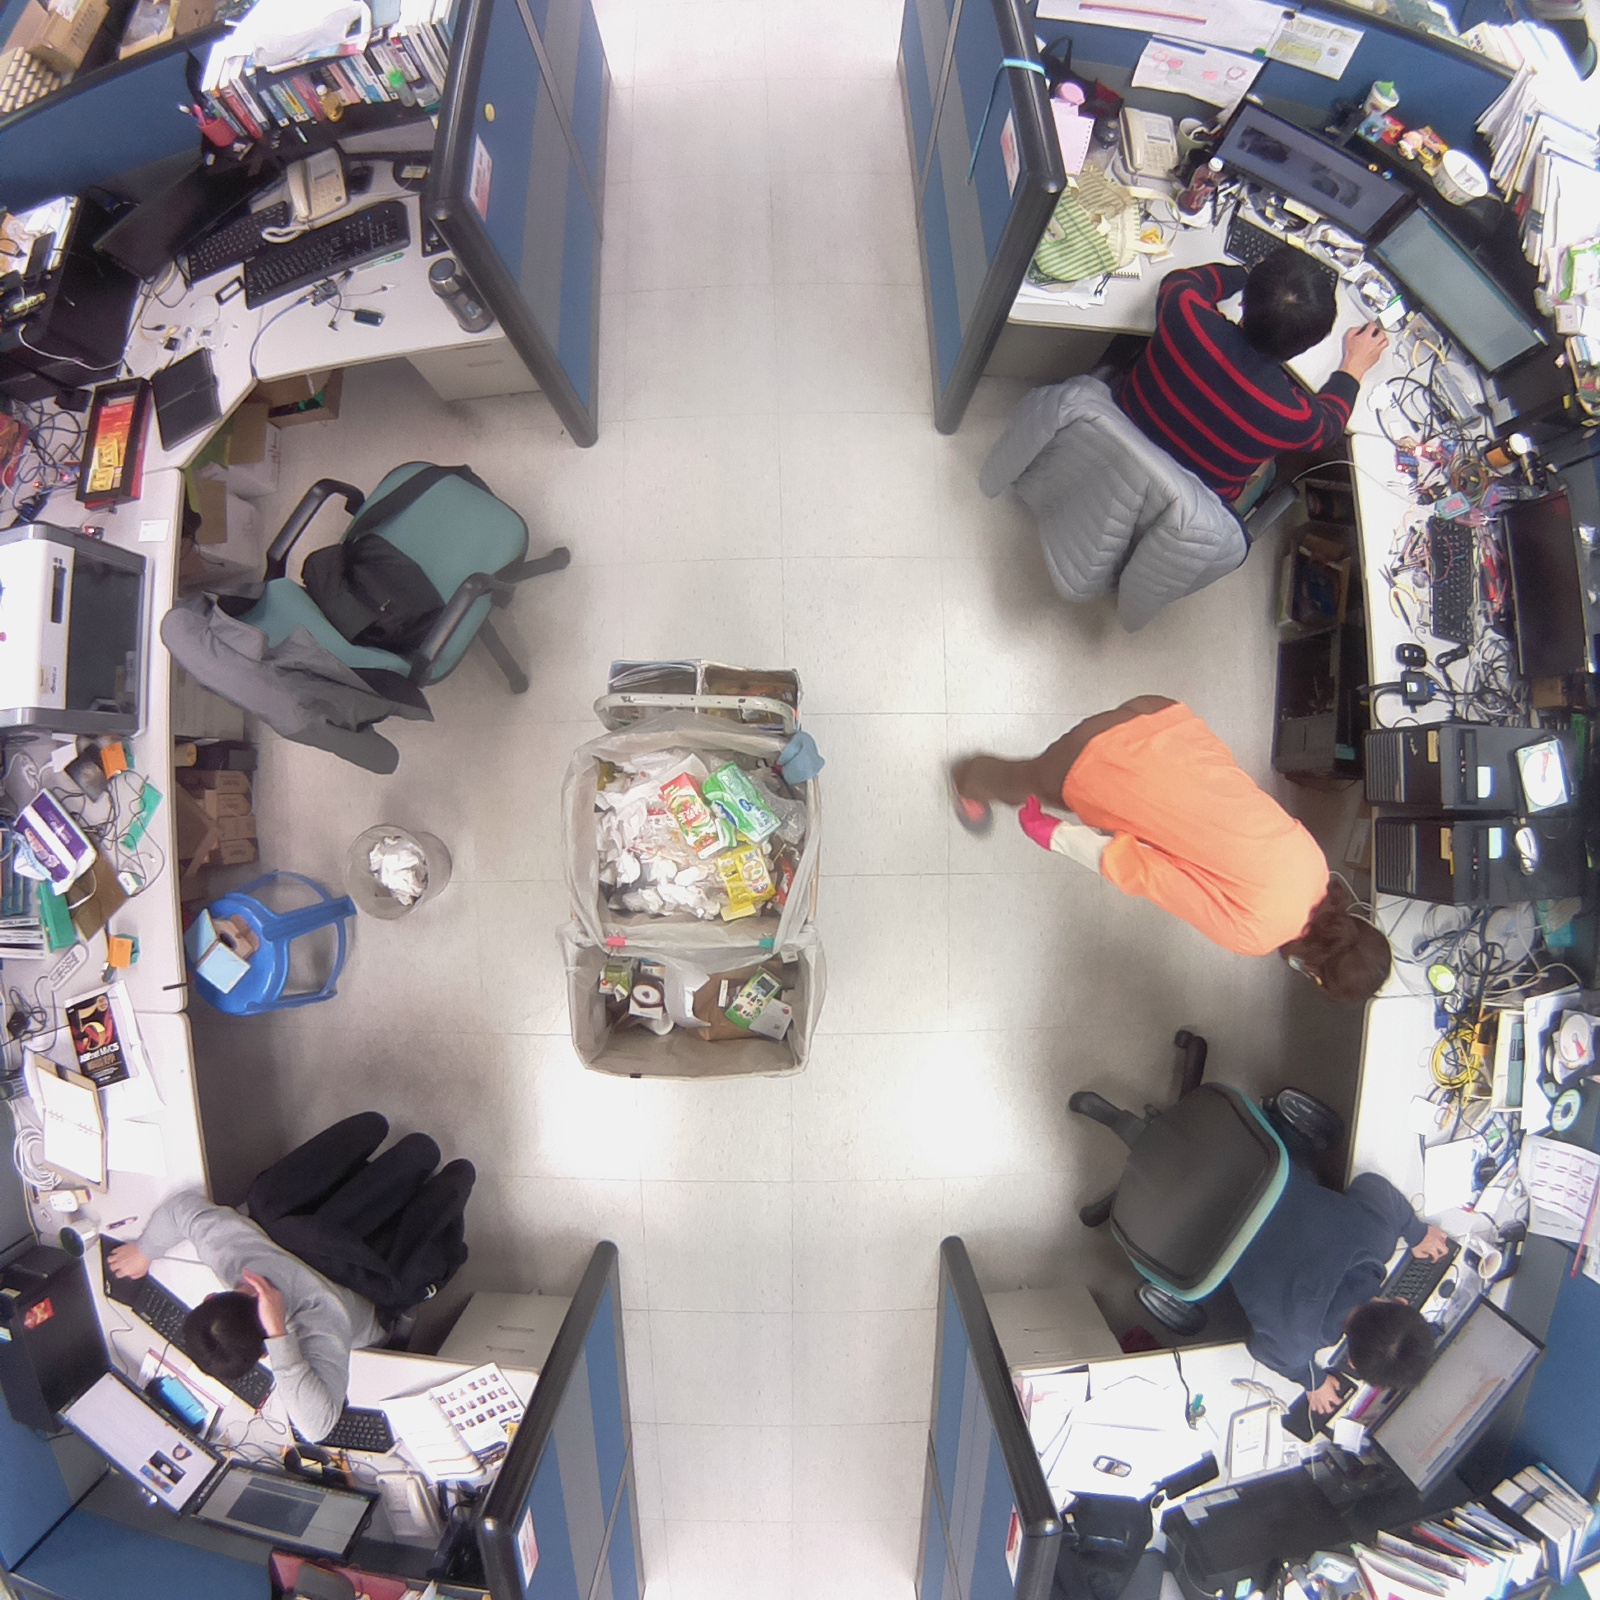chair: (150, 447, 596, 793)
head: (1238, 242, 1344, 363), (1285, 900, 1400, 1010), (176, 1274, 285, 1385), (1340, 1289, 1440, 1404)
sitting: (947, 240, 1393, 645), (1053, 1017, 1461, 1418), (101, 1086, 496, 1454)
standing: (931, 677, 1404, 1014)
